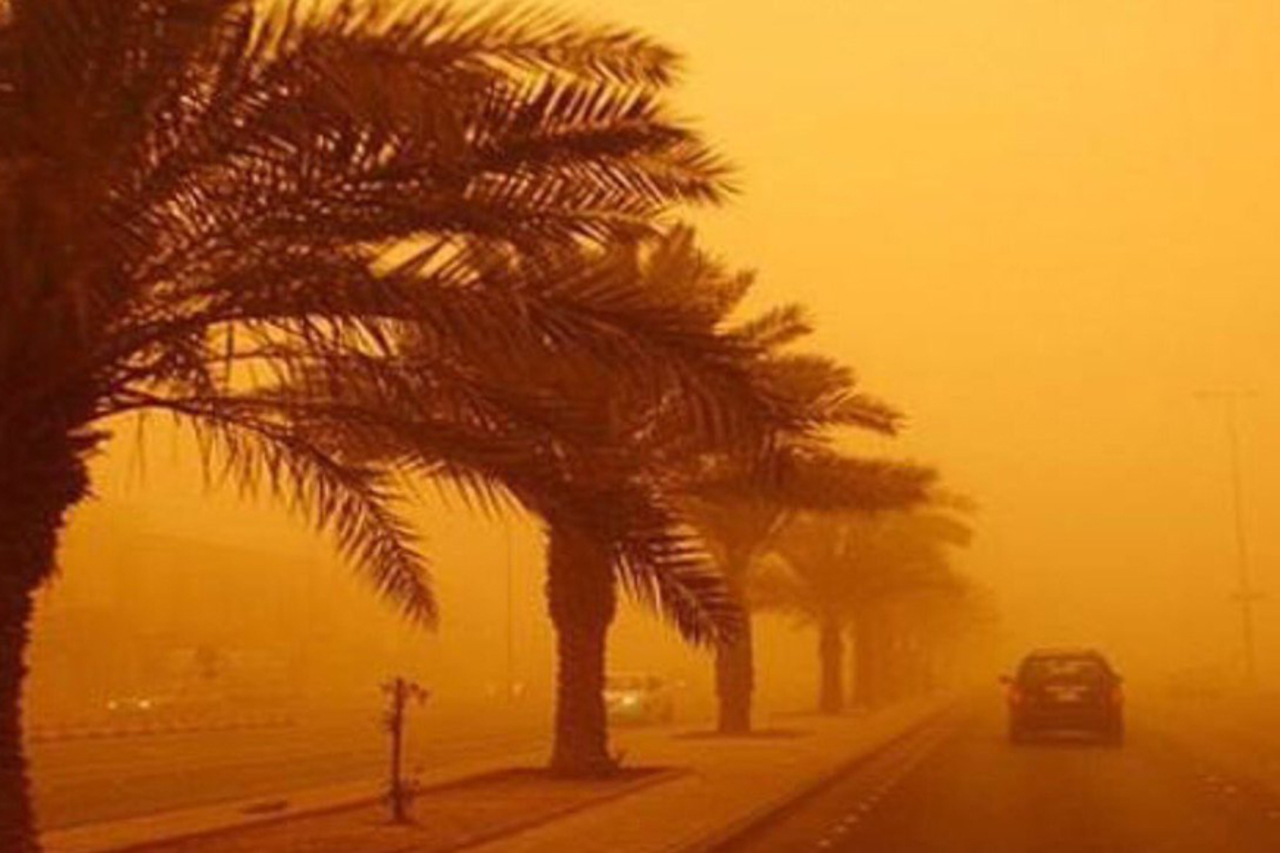bus: (105, 624, 251, 717)
car: (1004, 648, 1125, 743), (601, 667, 672, 717)
